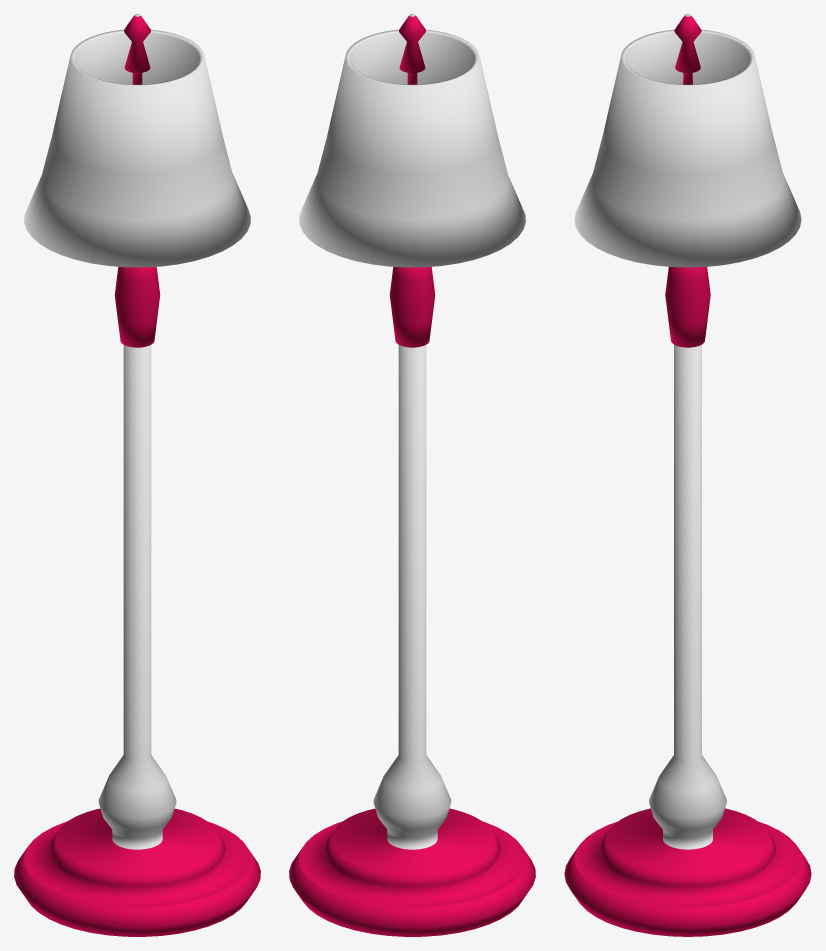
Rendered from HG_model_newLamp.fbx.
3 renders of one model, left to right at view 1: azimuth 30°, elevation 25°; view 2: azimuth 150°, elevation 25°; view 3: azimuth 270°, elevation 25°, orthographic.
Parts seen in each view (by area): view 1: LampBody, lampHead; view 2: LampBody, lampHead; view 3: LampBody, lampHead.
Part boxes in pixels (x1,y1,x2,y2): LampBody: (14,14,260,936); lampHead: (24,29,250,267); LampBody: (289,14,535,936); lampHead: (299,29,525,267); LampBody: (564,14,811,936); lampHead: (574,29,801,267).
Size of the model in its own units: 69.64 by 272 by 69.64.
